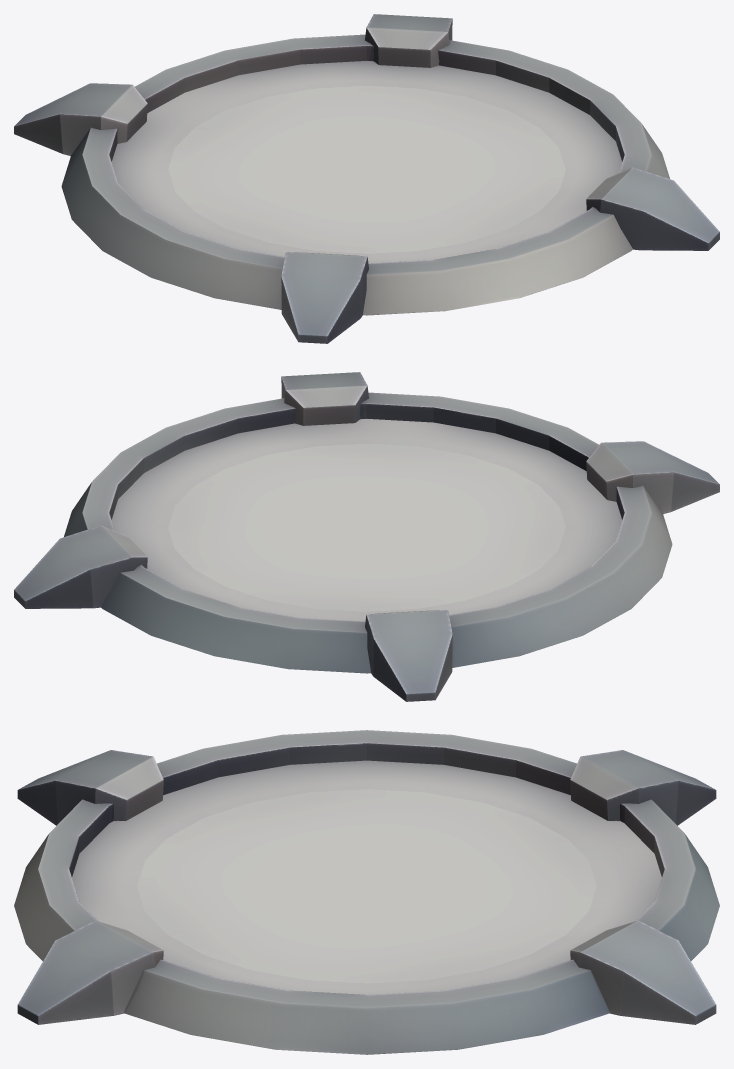
Rendered from SM_Stand2.fbx.
3 views of the same model, one above another, from view 1: azimuth 30°, elevation 25°; view 2: azimuth 150°, elevation 25°; view 3: azimuth 270°, elevation 25° (orthographic). The views are drawn at different scales.
Parts seen in each view (by area): view 1: Cube.002; view 2: Cube.002; view 3: Cube.002.
Boxes of the visible parts, x1,y1,x2,y2 form: Cube.002: (14,14,719,343); Cube.002: (14,372,719,701); Cube.002: (14,730,719,1054).
Size of the model in its own units: 530 by 42.81 by 530.
Materials: 1 (1 with a texture image).
